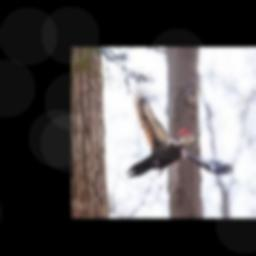Woodpecker: (126, 82, 234, 177)
